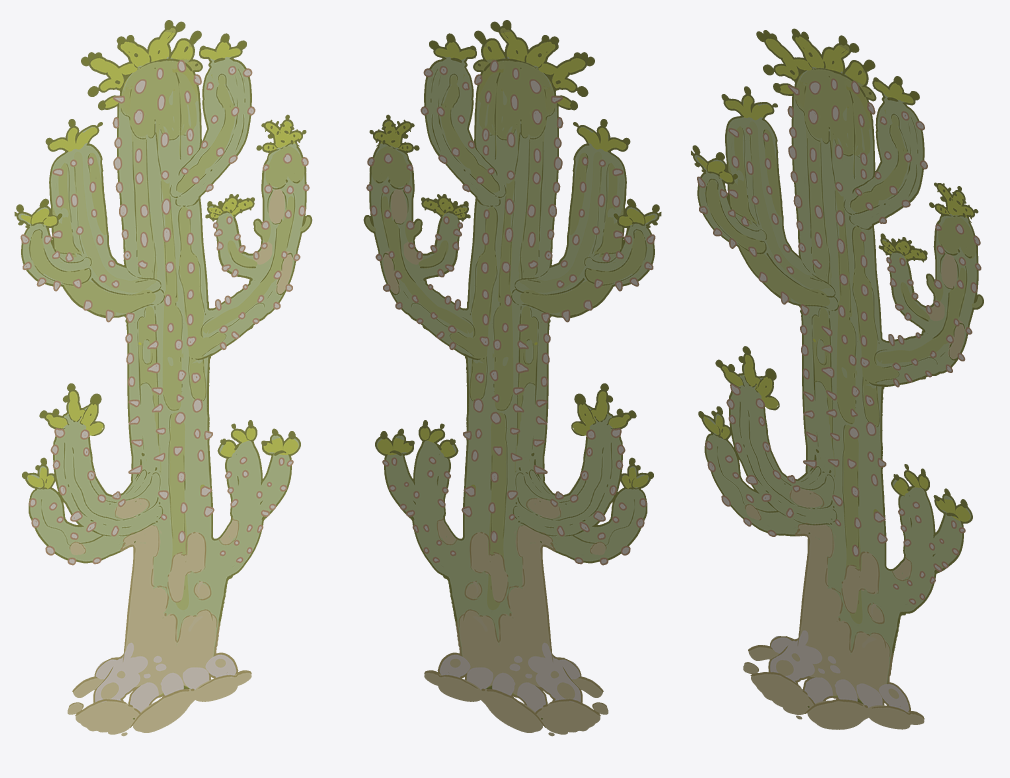
Rendered from Mesh_Adventure_Sand_Variant_Cactus_01.fbx.
3 views of the same model, side by side, from view 1: azimuth 30°, elevation 25°; view 2: azimuth 150°, elevation 25°; view 3: azimuth 330°, elevation 25° (orthographic).
Visible parts, largest first — view 1: Mesh_Adventure_Sand_Variant_Cactus_01; view 2: Mesh_Adventure_Sand_Variant_Cactus_01; view 3: Mesh_Adventure_Sand_Variant_Cactus_01.
Boxes of the visible parts, x1,y1,x2,y2 form: Mesh_Adventure_Sand_Variant_Cactus_01: (14,20,312,736); Mesh_Adventure_Sand_Variant_Cactus_01: (363,20,661,736); Mesh_Adventure_Sand_Variant_Cactus_01: (691,28,983,729).
Size of the model in its own units: 45.78 by 100 by 0.
